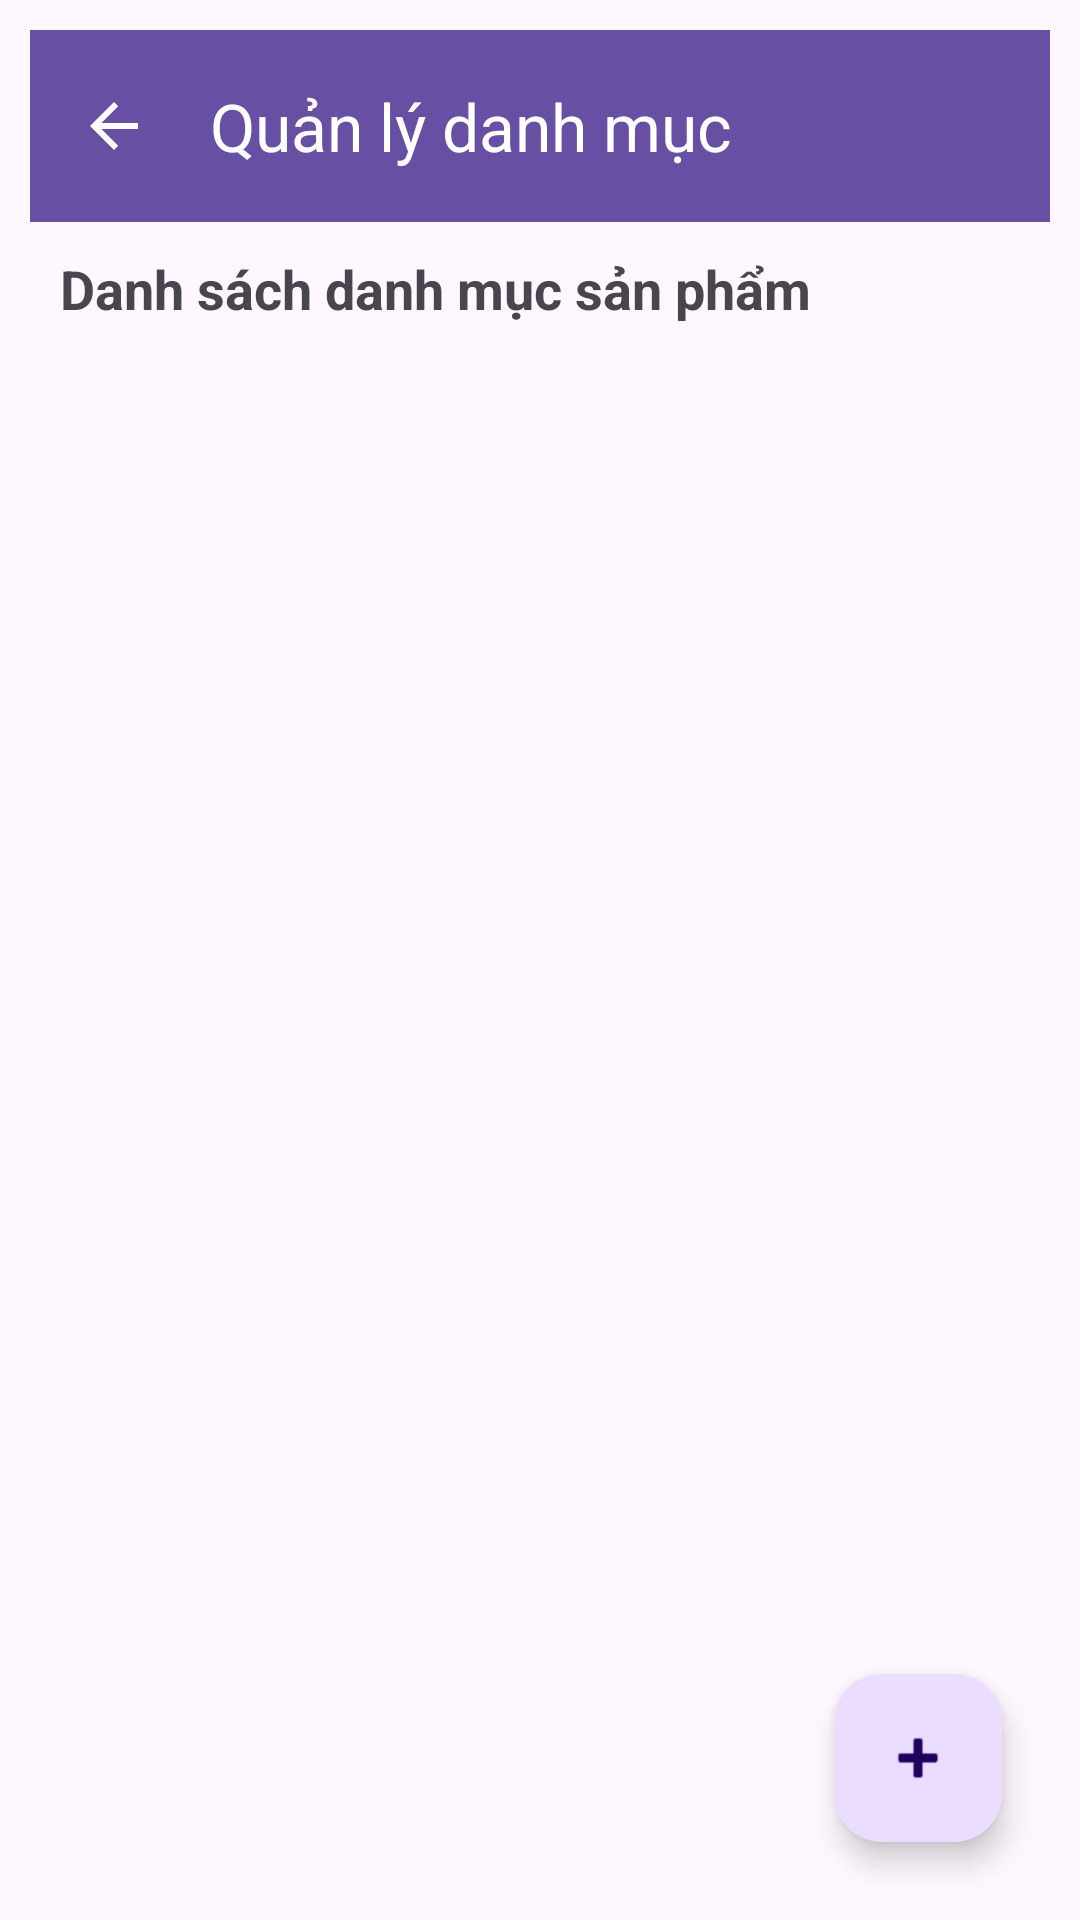

Screen size 1080w x 1920h. Icon name, then its box in pixels as (x1, y1, x2, y2):
Thêm danh mục: (834, 1674, 1002, 1842)
